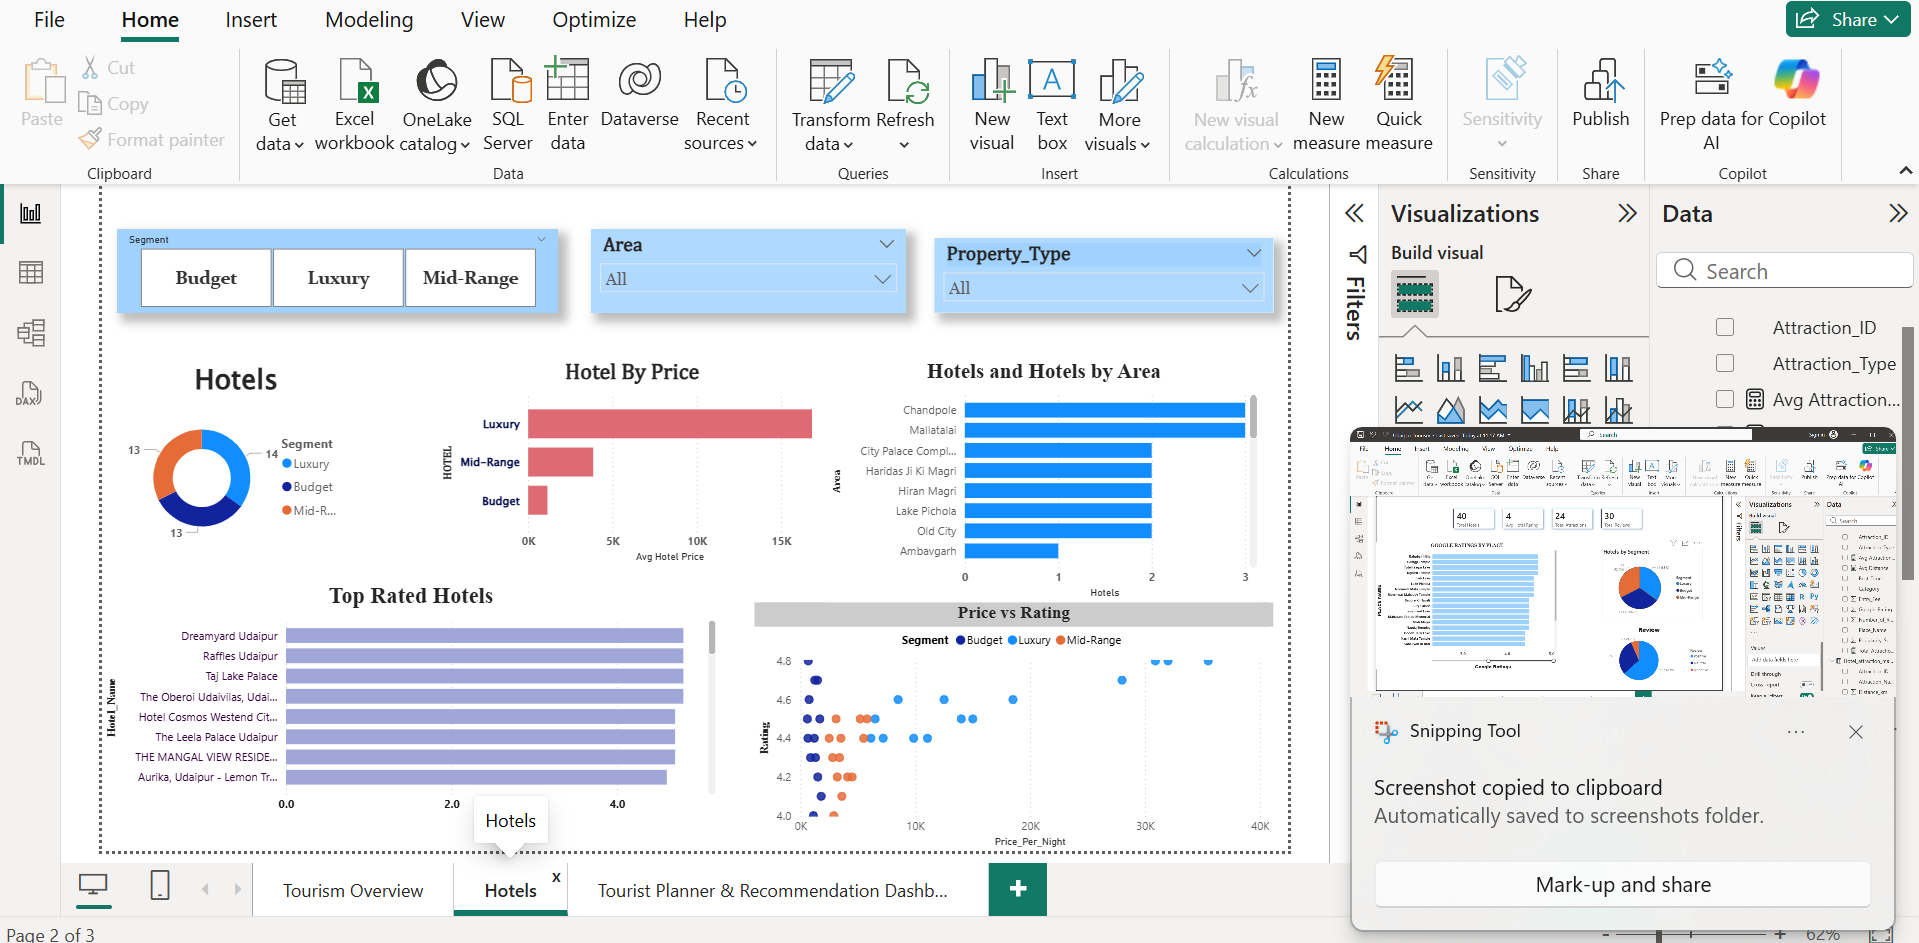

This screenshot's page, from the dashboard's own definition file:
{"tool":"powerbi","page":{"name":"Hotels ","canvas":[1280,720],"ordinal":1},"visuals":[{"type":"donutChart","title":"Hotels","fields":{"Category":["Hotels.Segment"],"Y":["CountNonNull(Hotels.Hotel_ID)"]},"box":[16.2,189.4,257.5,210.5],"z":0},{"type":"clusteredBarChart","title":"Hotel By Price ","fields":{"Category":["Hotels.Segment"],"Y":["Hotels.Avg Hotel Price"]},"box":[362.7,189.4,419.4,223.5],"z":1000},{"type":"clusteredBarChart","title":"Top Rated Hotels","fields":{"Category":["Hotels.Hotel_Name"],"Y":["Sum(Hotels.Rating)"]},"box":[0,430.7,667.1,265.6],"z":2000},{"type":"scatterChart","title":"Price vs Rating","fields":{"X":["Hotels.Price_Per_Night"],"Y":["Sum(Hotels.Rating)"],"Series":["Hotels.Segment"]},"box":[704.4,451.8,560.3,268.8],"z":3000},{"type":"clusteredBarChart","fields":{"Category":["Hotels.Area"],"Y":["CountNonNull(Hotels.Hotel_ID)"]},"box":[782.1,189.4,469.6,262.3],"z":4000},{"type":"slicer","fields":{"Values":["Hotels.Segment"]},"box":[16.2,48.6,476.1,90.7],"z":5000},{"type":"slicer","fields":{"Values":["Hotels.Area"]},"box":[527.9,48.6,340,90.7],"z":6000},{"type":"slicer","fields":{"Values":["Hotels.Property_Type"]},"box":[898.7,58.3,365.9,81],"z":7000}]}

Visuals, with their boxes on the page's 1280x720 design canvas (x1, y1, x2, y2). These are canvas units, not pixel positions in the 1919x943 screenshot, which may show the page scaled, cropped or inside an application window:
"Hotels" donutChart: crop(16, 189, 274, 400)
"Hotel By Price " clusteredBarChart: crop(363, 189, 782, 413)
"Top Rated Hotels" clusteredBarChart: crop(0, 431, 667, 696)
"Price vs Rating" scatterChart: crop(704, 452, 1265, 721)
clusteredBarChart - Hotels.Area x CountNonNull(Hotels.Hotel_ID): crop(782, 189, 1252, 452)
slicer - Hotels.Segment: crop(16, 49, 492, 139)
slicer - Hotels.Area: crop(528, 49, 868, 139)
slicer - Hotels.Property_Type: crop(899, 58, 1265, 139)
